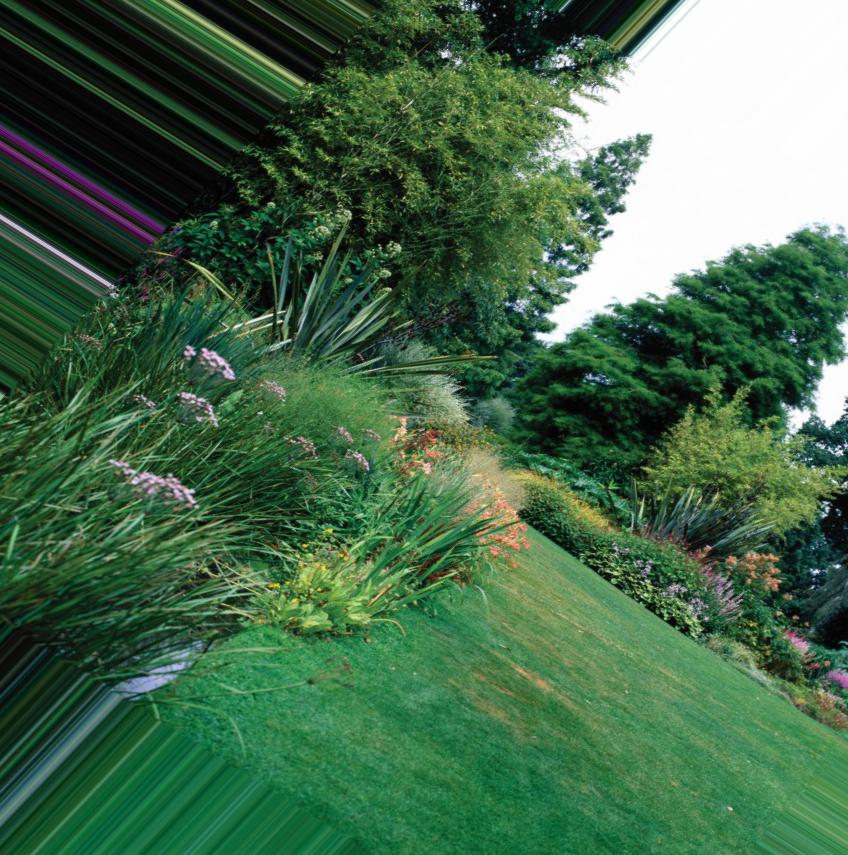patch: (516, 666, 559, 689), (490, 692, 524, 713)
